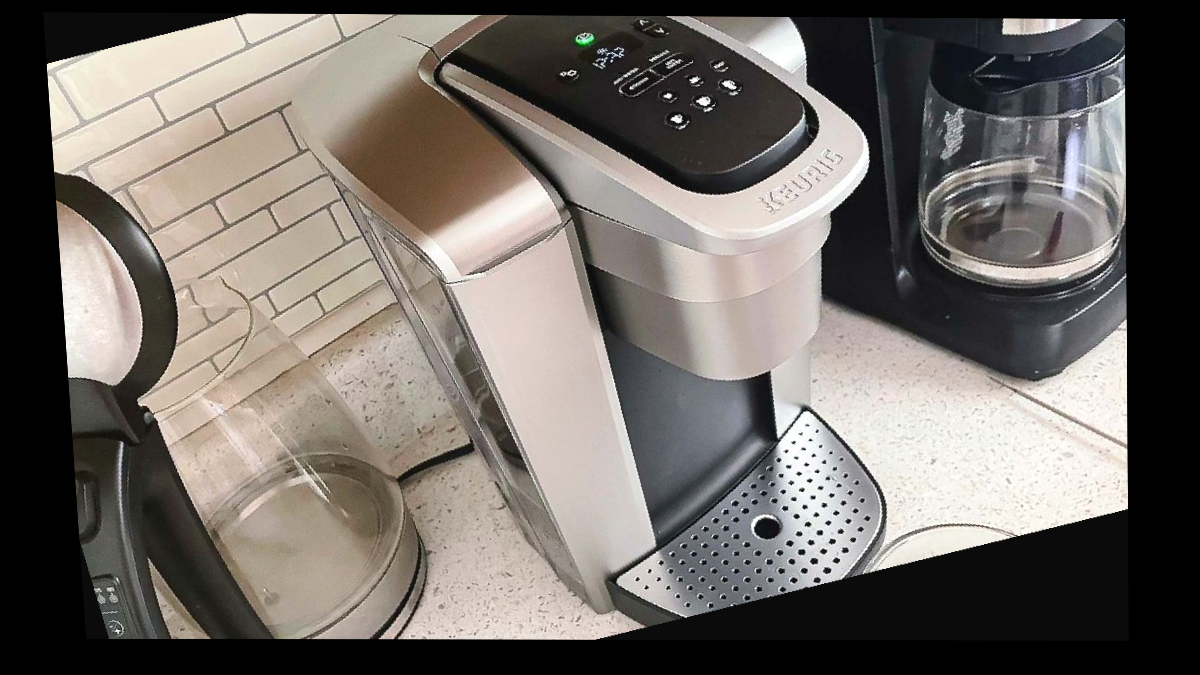10oz: (689, 92, 719, 112)
12oz: (716, 76, 746, 97)
4oz: (656, 88, 679, 106)
6oz: (684, 72, 707, 90)
8oz: (663, 109, 692, 130)
add_water: (599, 48, 650, 92)
descale: (642, 31, 683, 66)
hot: (652, 42, 699, 82)
iced: (708, 57, 730, 74)
power: (573, 30, 597, 48)
strong: (611, 64, 662, 108)
